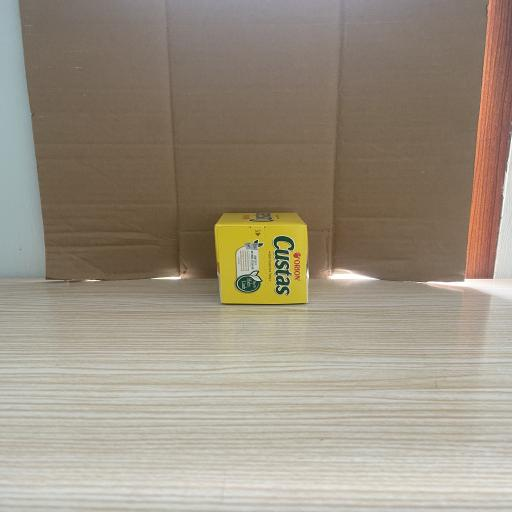custas: (216, 211, 312, 305)
